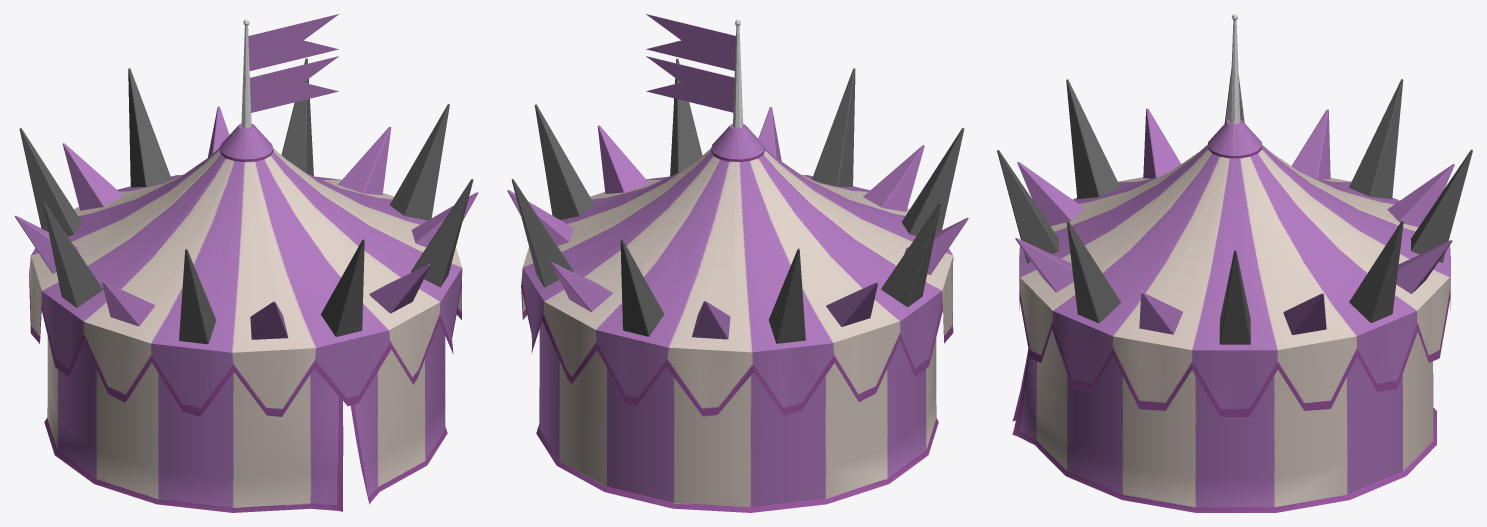
File: BUILDING_DarkHumor_2.fbx
3 renders of one model, left to right at view 1: azimuth 30°, elevation 25°; view 2: azimuth 150°, elevation 25°; view 3: azimuth 270°, elevation 25°, orthographic.
Parts seen in each view (by area): view 1: BUILDING_DarkHumor_2_Baked; view 2: BUILDING_DarkHumor_2_Baked; view 3: BUILDING_DarkHumor_2_Baked.
Part boxes in pixels (x1=…): BUILDING_DarkHumor_2_Baked: x1=14, y1=14, x2=478, y2=512; BUILDING_DarkHumor_2_Baked: x1=507, y1=14, x2=968, y2=512; BUILDING_DarkHumor_2_Baked: x1=997, y1=14, x2=1472, y2=512.
Bounding box in the file's own units: 182 × 174 × 182.
1 material, 1 textured.
